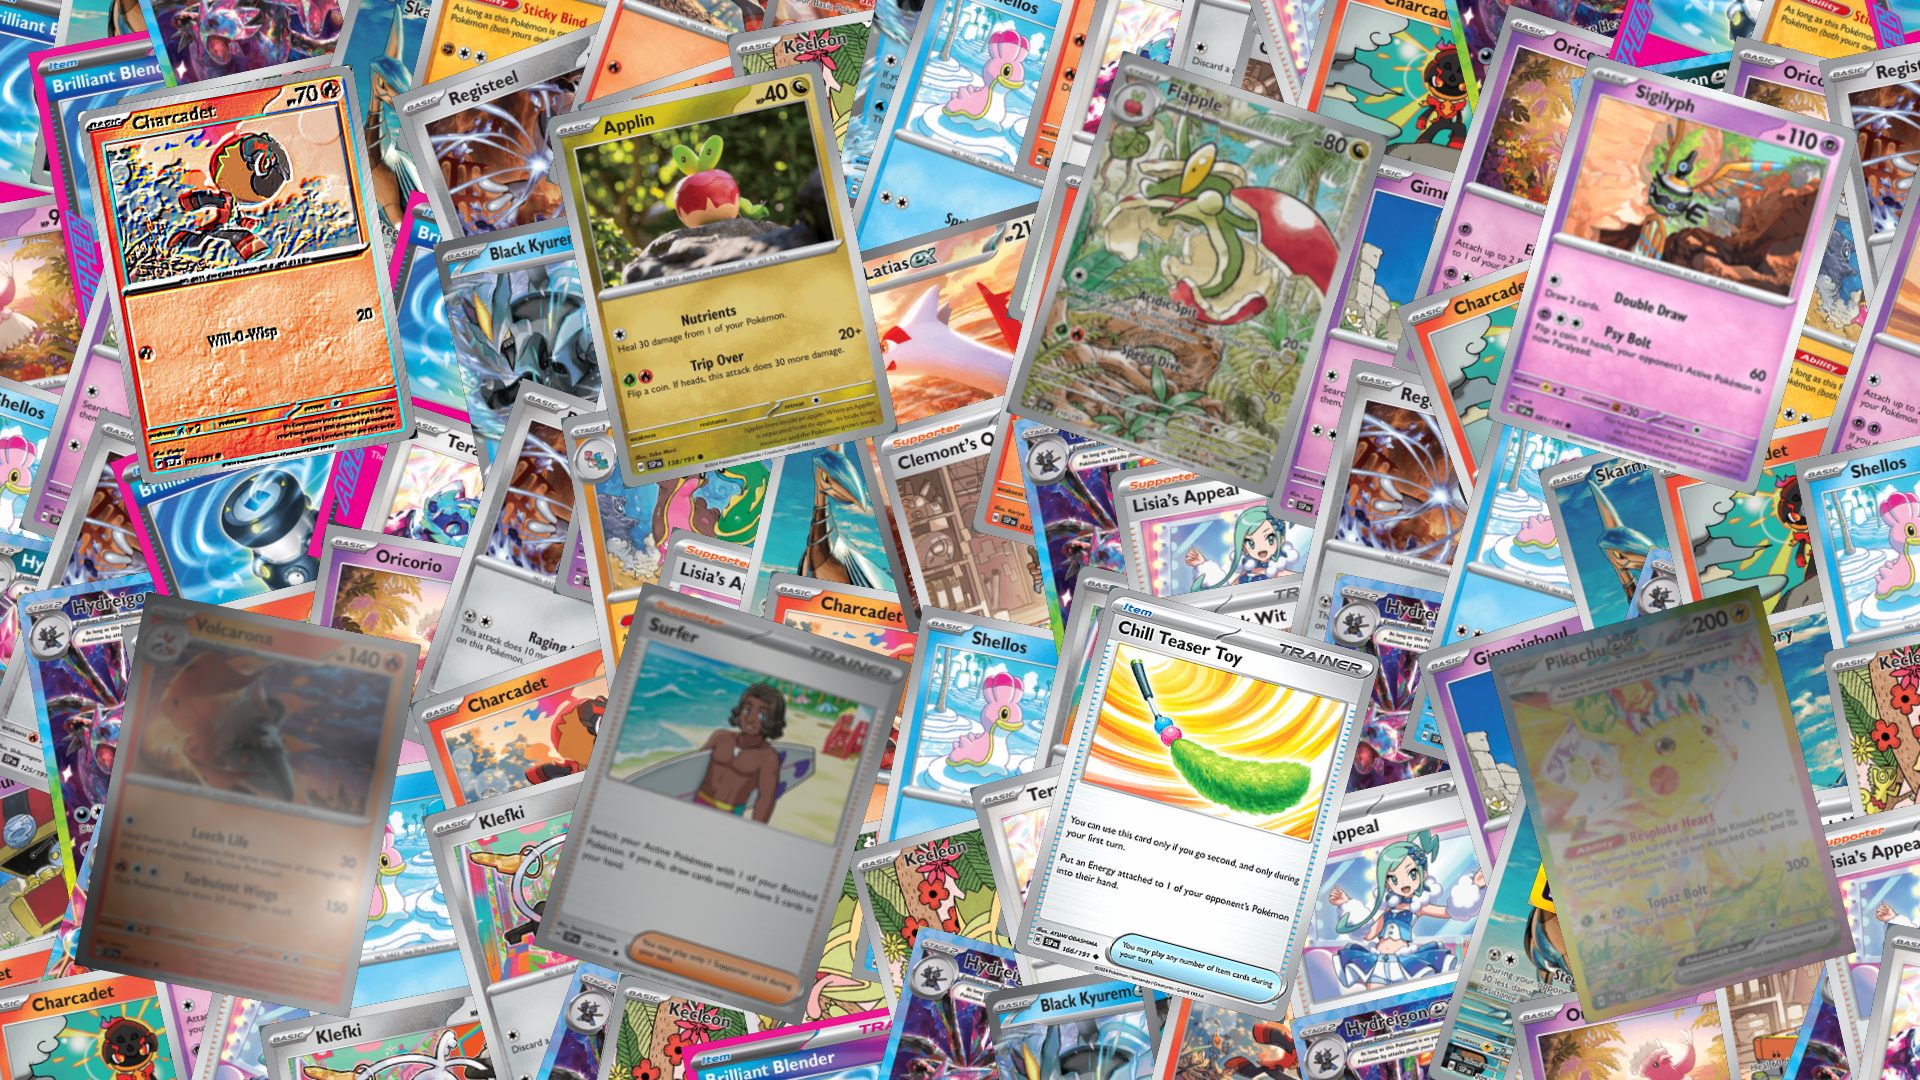Applin: (545, 59, 898, 489)
Charcadet: (76, 63, 418, 487)
Chill_Teaser_Toy: (1011, 584, 1381, 1025)
Flapple: (1005, 50, 1389, 498)
Pikachu_ex: (1487, 584, 1855, 1025)
Sigilyph: (1485, 53, 1859, 496)
Surfer: (531, 582, 911, 1027)
Volcarona: (73, 591, 421, 1018)
